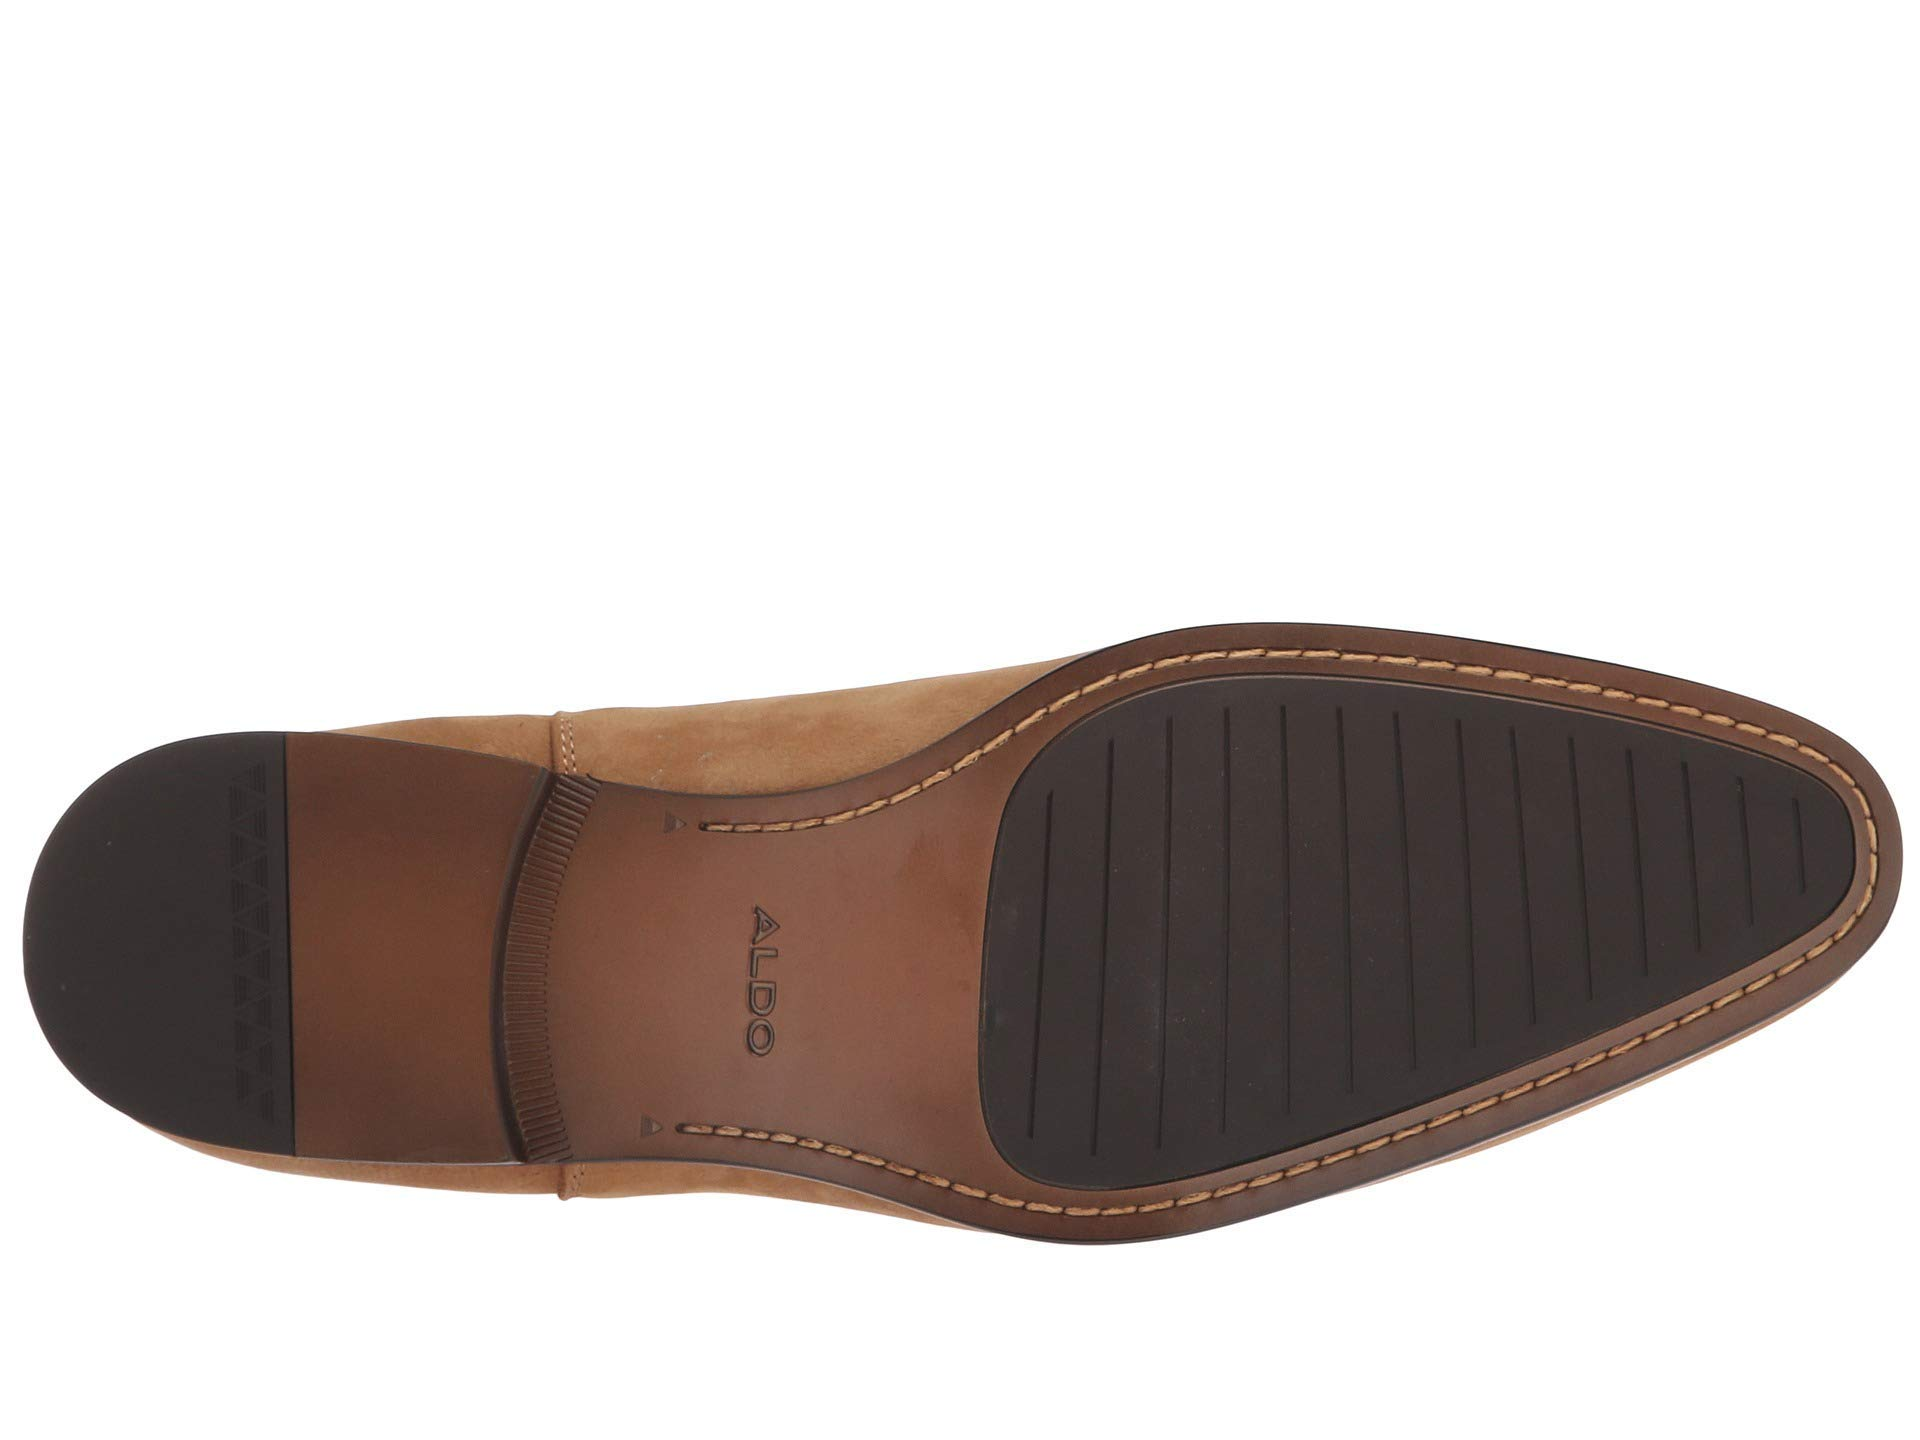line: (1095, 746, 1453, 1103)
